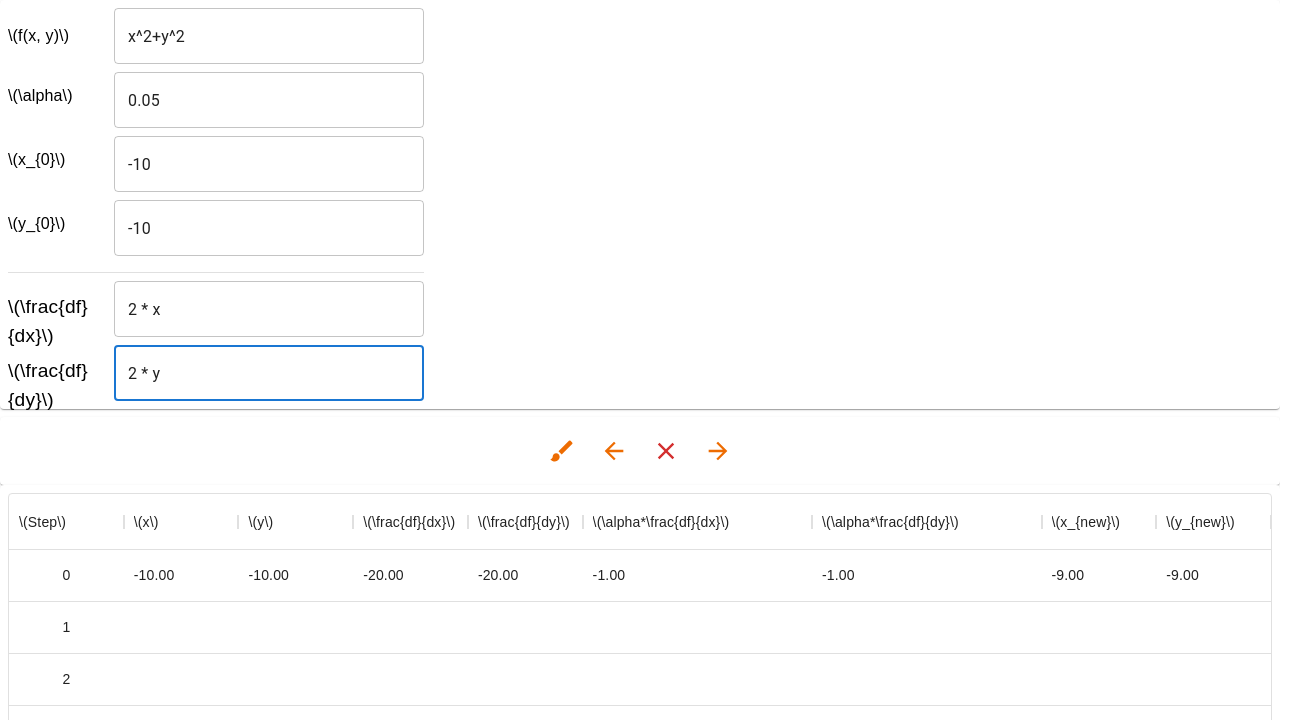
Test case: Testing Gradient Descent 2D Pages › Step By Step Page › When user enters input › Should update the function and its df
Replace the text in the 1st field with "x^3+7y" at (269, 36), box [114,8,424,64]
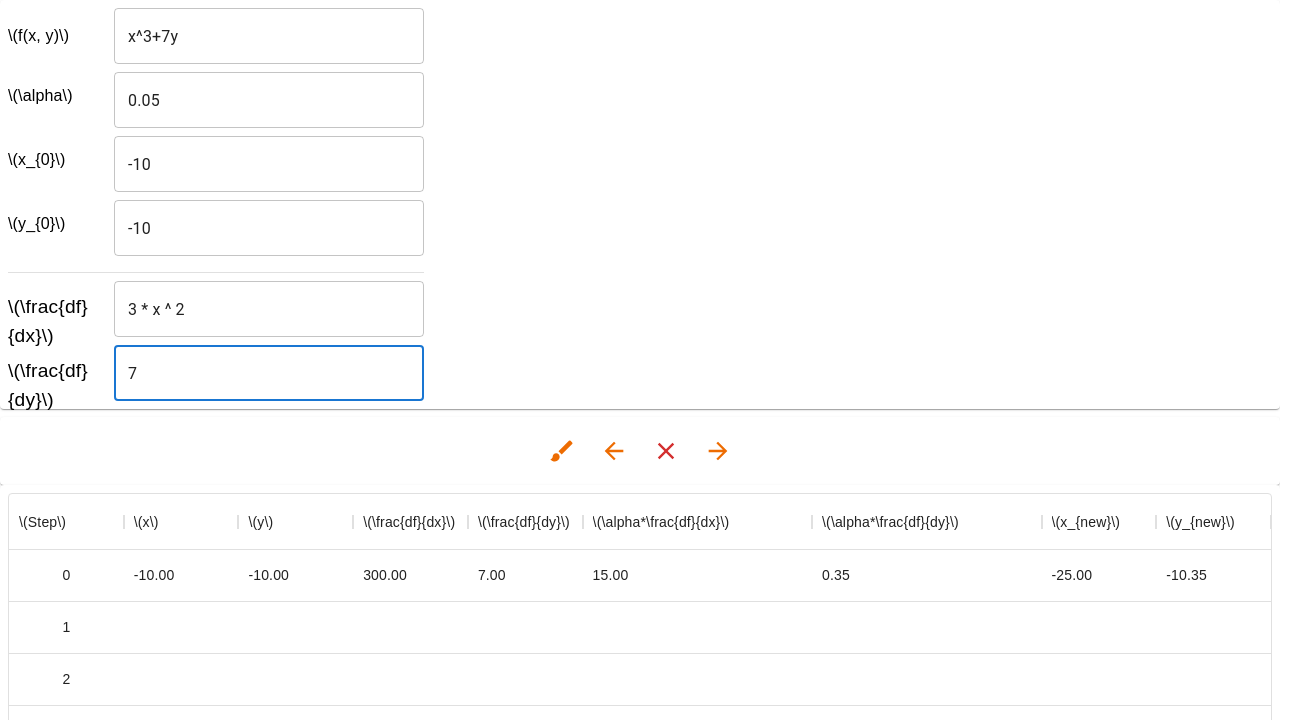
Check: the 2nd field holds "3 * x ^ 2", box [114,281,424,337]
Check: the 3rd field holds "7", box [114,345,424,401]
